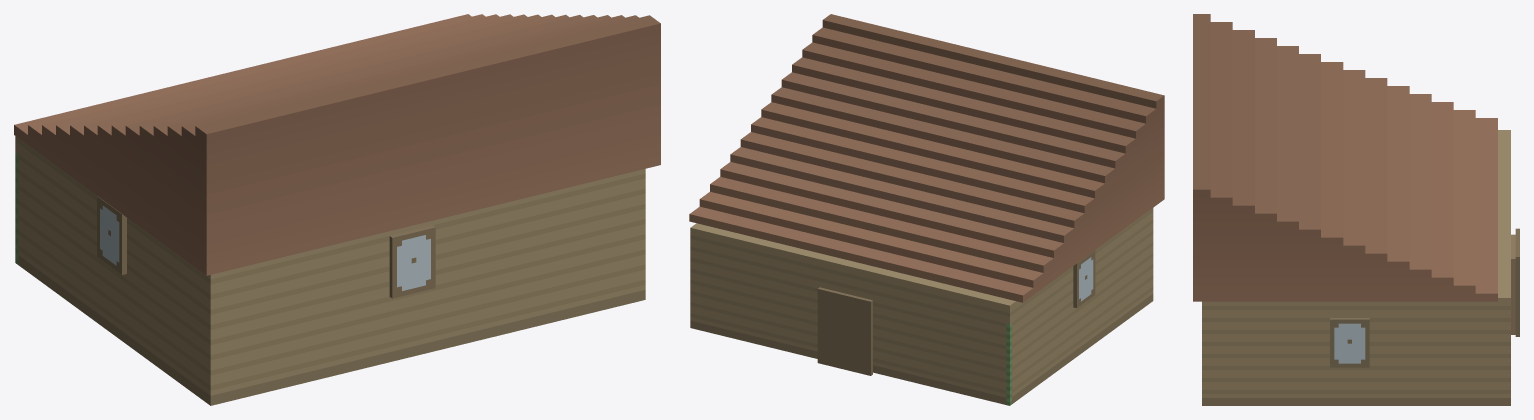
File: hilanderia_02.glb
3 renders of one model, left to right at view 1: azimuth 30°, elevation 25°; view 2: azimuth 150°, elevation 25°; view 3: azimuth 270°, elevation 25°, orthographic. The views are drawn at different scales.
Visible parts, largest first — view 1: hilanderia_02; view 2: hilanderia_02; view 3: hilanderia_02.
Part boxes in pixels (x1,y1,x2,y2): hilanderia_02: (14, 14, 660, 405); hilanderia_02: (689, 14, 1164, 405); hilanderia_02: (1193, 14, 1519, 405).
Bounding box in the file's own units: 9.4 × 5.5 × 7.4.
